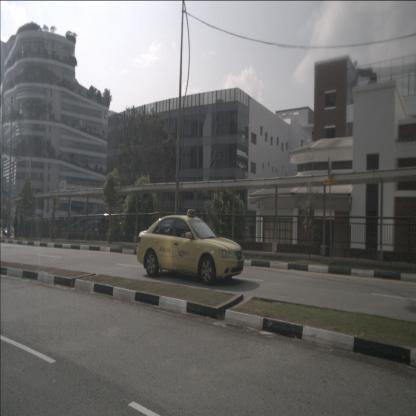human-pedestrian-adult: (13, 211, 18, 239)
vehicle-car: (136, 215, 244, 286), (3, 228, 12, 236)
